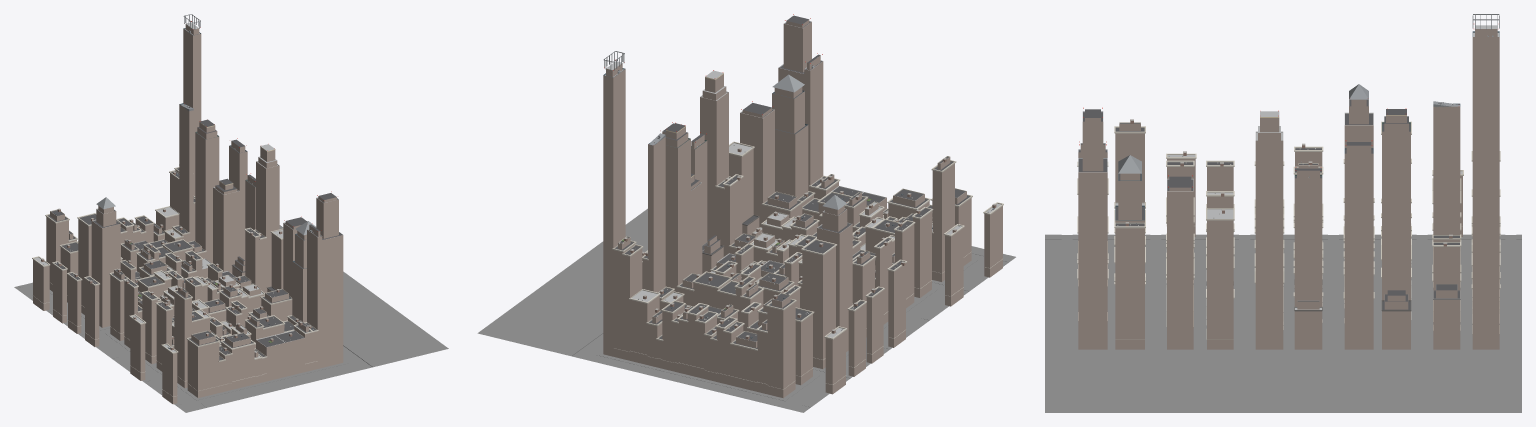
3 views of the same model, side by side, from view 1: azimuth 30°, elevation 25°; view 2: azimuth 150°, elevation 25°; view 3: azimuth 270°, elevation 25° (orthographic). The views are drawn at different scales.
Parts seen in each view (by area): view 1: t11_facade, t11_ground, t11_detail, t11_roof; view 2: t11_facade, t11_ground, t11_detail, t11_roof; view 3: t11_facade, t11_ground, t11_detail, t11_roof.
Boxes of the visible parts, x1=… form: t11_facade: x1=33, y1=24, x2=343, y2=404; t11_ground: x1=14, y1=225, x2=448, y2=412; t11_detail: x1=32, y1=28, x2=342, y2=396; t11_roof: x1=34, y1=14, x2=341, y2=360; t11_facade: x1=603, y1=20, x2=1002, y2=398; t11_ground: x1=477, y1=208, x2=1015, y2=412; t11_detail: x1=603, y1=21, x2=1003, y2=389; t11_roof: x1=603, y1=14, x2=1000, y2=348; t11_facade: x1=1078, y1=29, x2=1499, y2=349; t11_ground: x1=1045, y1=234, x2=1521, y2=412; t11_detail: x1=1077, y1=31, x2=1500, y2=339; t11_roof: x1=1078, y1=14, x2=1499, y2=309.
Bounding box in the file's own units: 384 × 328 × 430.
